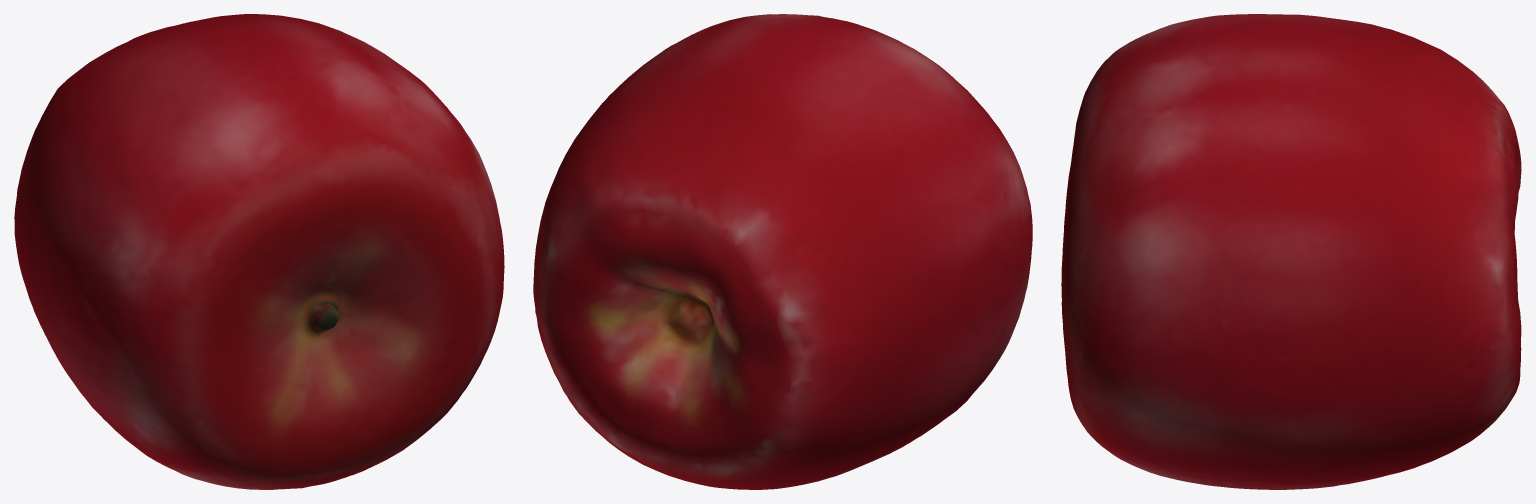
3 views of the same model, side by side, from view 1: azimuth 30°, elevation 25°; view 2: azimuth 150°, elevation 25°; view 3: azimuth 270°, elevation 25° (orthographic). The views are drawn at different scales.
Bounding box in the file's own units: 0.0754 × 0.0749 × 0.0719.
